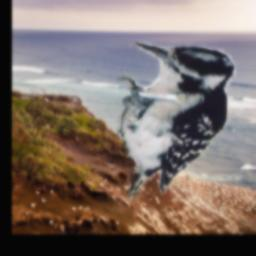Woodpecker: (114, 43, 235, 202)
